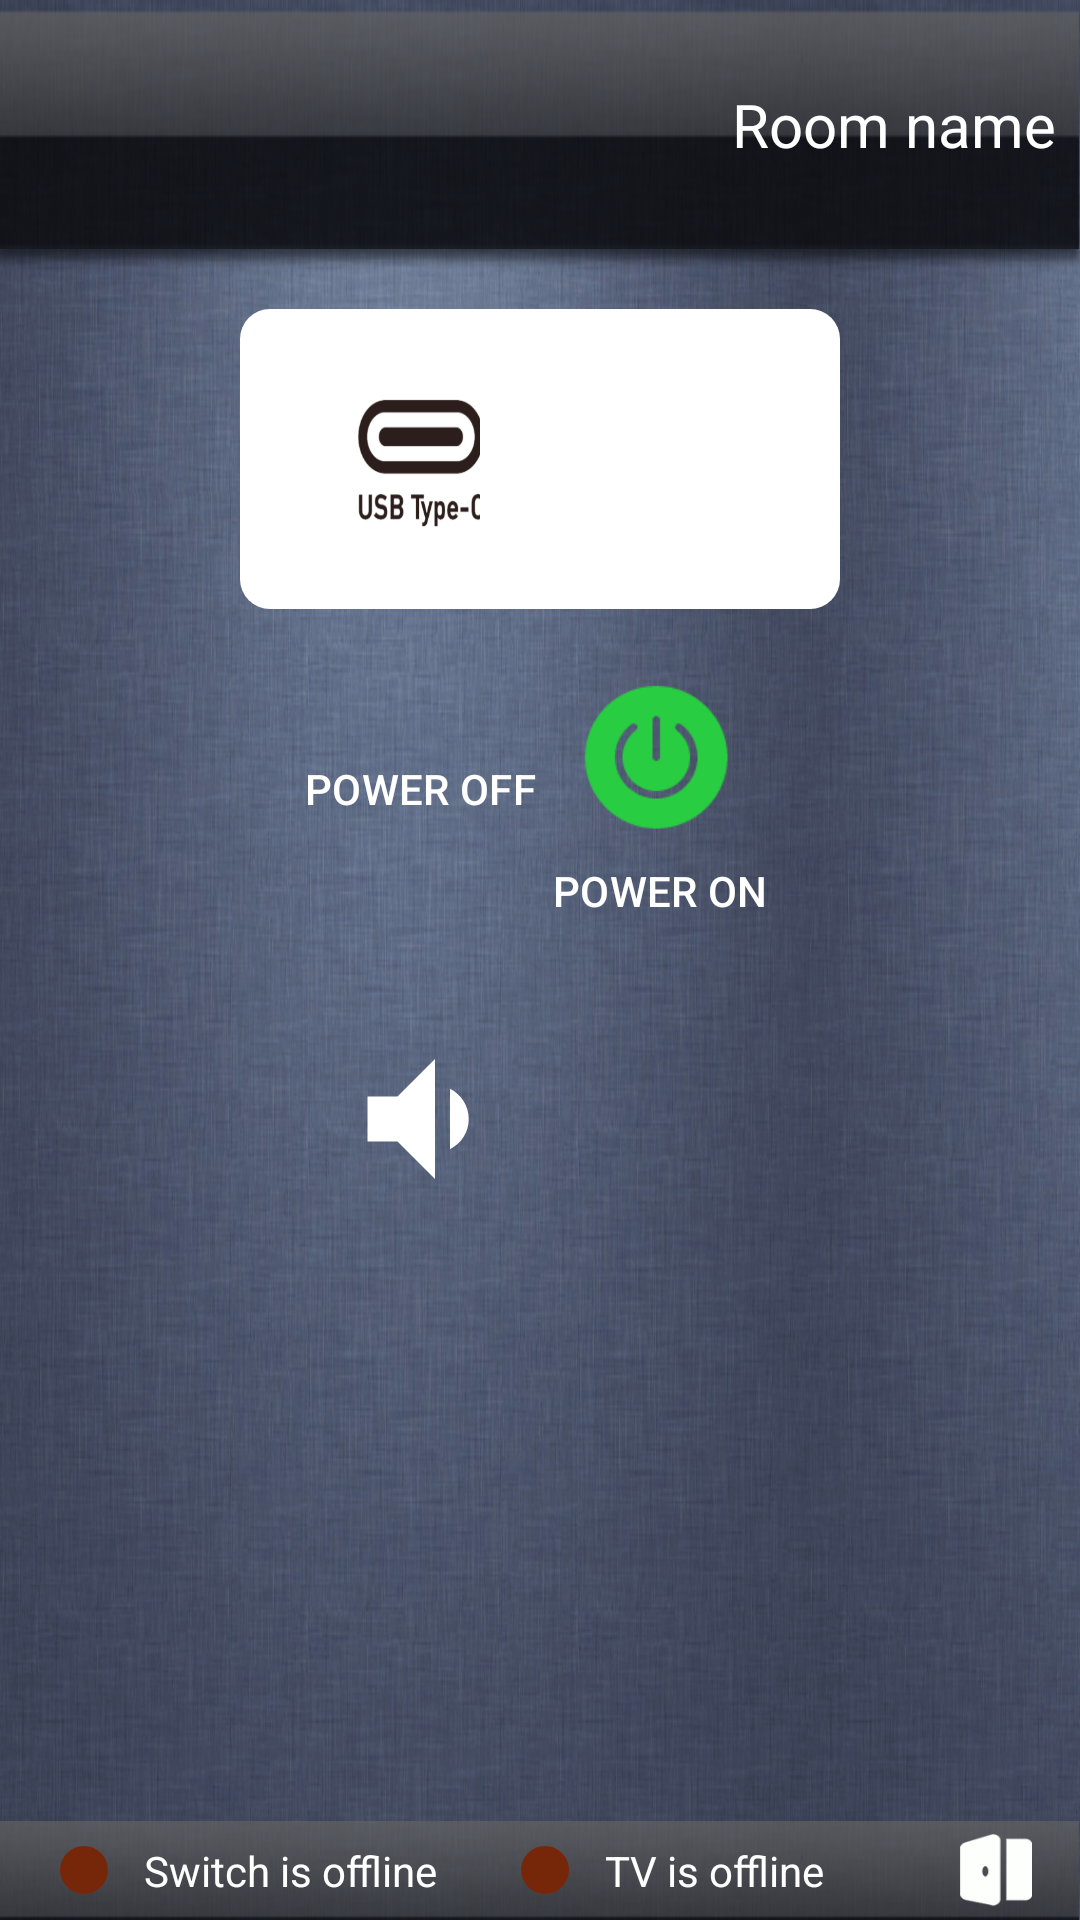

Icon bounding boxes for this 1080px x 1920px phone screenshot, format (x1, y1, x2, y2):
Exit App: (960, 1834, 1032, 1906)
LED indicator: (48, 1834, 120, 1894), (521, 1846, 569, 1894)
volume down: (306, 969, 482, 1179)
